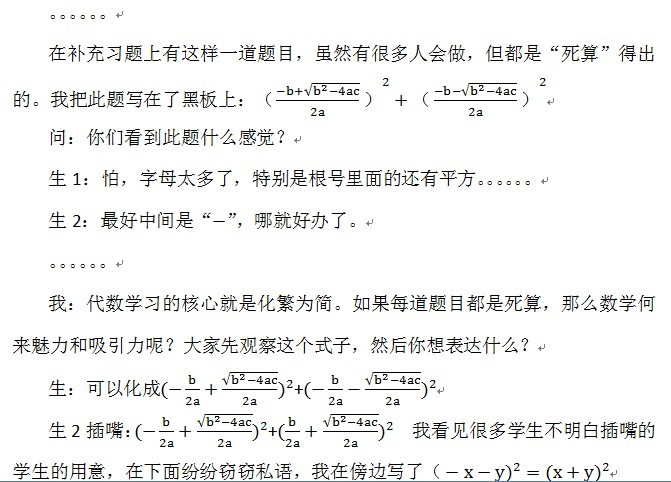division: (431, 94, 522, 106), (275, 95, 361, 104), (219, 384, 276, 397), (320, 427, 383, 437), (365, 386, 424, 395), (193, 428, 257, 435), (160, 424, 174, 436), (184, 387, 201, 394), (328, 386, 342, 393)
sqrt: (217, 368, 283, 391), (460, 78, 518, 99), (366, 367, 422, 387), (323, 411, 378, 431), (195, 412, 255, 430), (306, 81, 361, 97)
square: (428, 374, 438, 395), (384, 417, 397, 432), (603, 458, 612, 475), (257, 421, 268, 433), (284, 377, 294, 390), (381, 75, 391, 87), (512, 459, 520, 473), (538, 76, 547, 88), (380, 373, 389, 381), (239, 372, 247, 381), (213, 413, 220, 423), (321, 81, 327, 92), (478, 82, 483, 92), (341, 414, 346, 424)
